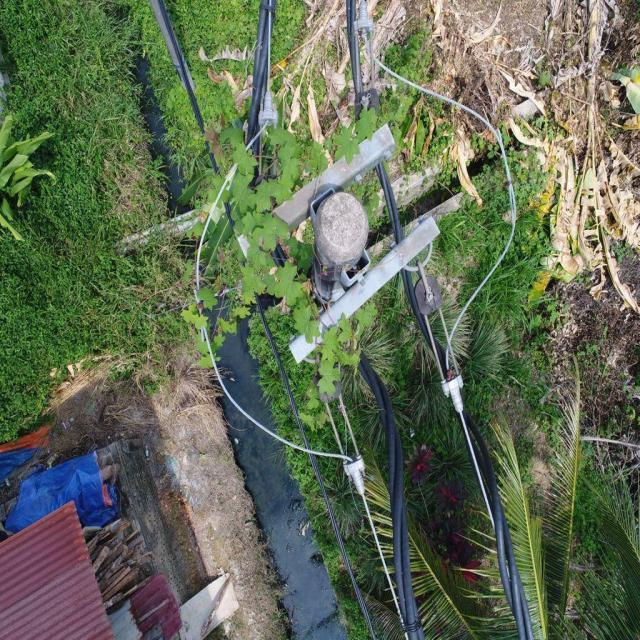critical vegetation: (173, 100, 394, 388)
